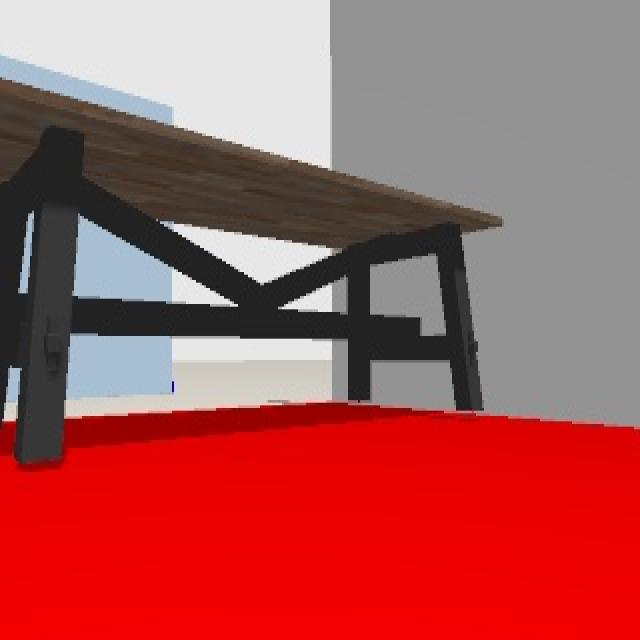dining: (4, 76, 504, 417)
